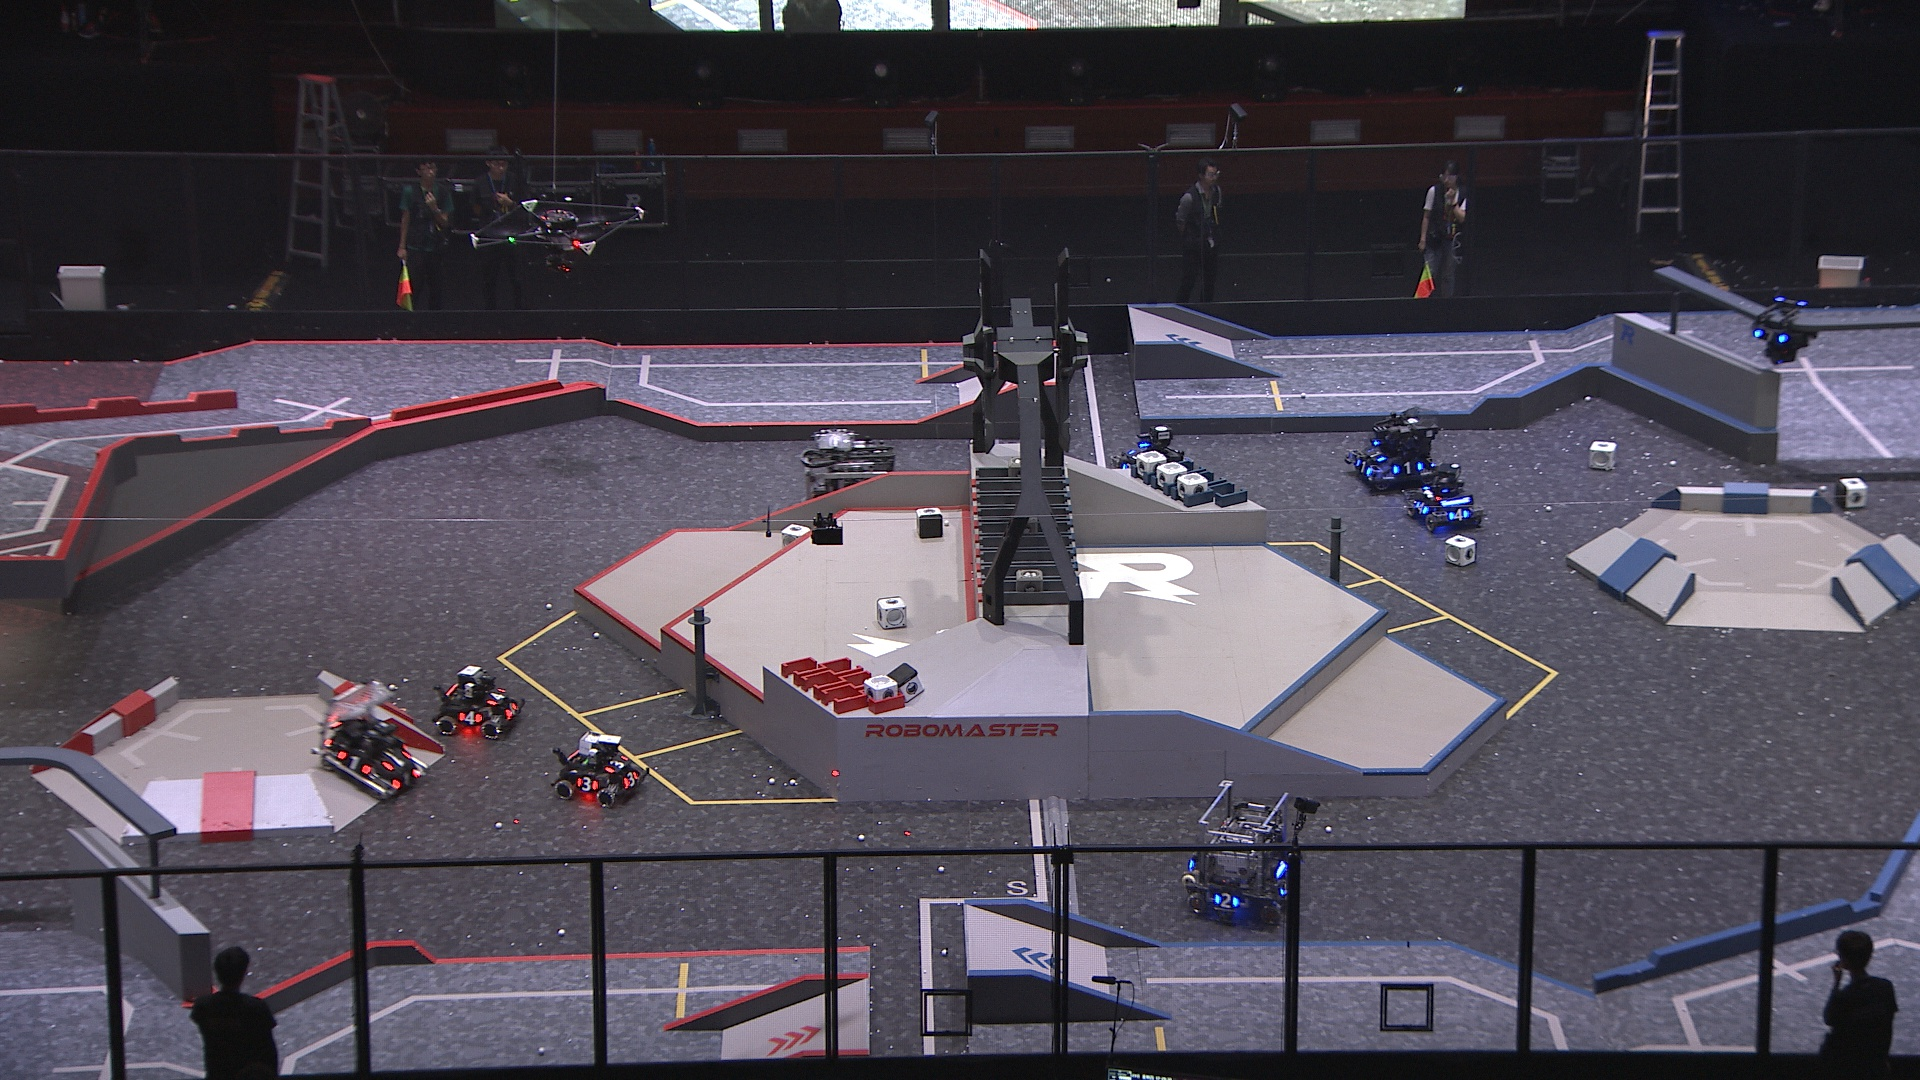armor: (334, 752, 371, 777), (389, 766, 422, 789), (1751, 328, 1789, 345), (380, 752, 410, 771), (1393, 458, 1424, 476), (1215, 893, 1240, 913), (456, 708, 484, 725), (603, 754, 629, 771), (576, 777, 603, 794), (487, 687, 506, 707), (504, 699, 520, 723), (1352, 460, 1373, 477), (1449, 508, 1472, 524), (621, 771, 641, 789), (1367, 448, 1387, 463), (1414, 501, 1429, 517)
car: (1185, 779, 1302, 926), (313, 680, 433, 802), (800, 433, 898, 531), (1344, 410, 1447, 495), (553, 733, 651, 807), (433, 665, 522, 740), (1400, 462, 1485, 535), (1112, 425, 1193, 485)
watcher: (1749, 295, 1818, 367)
